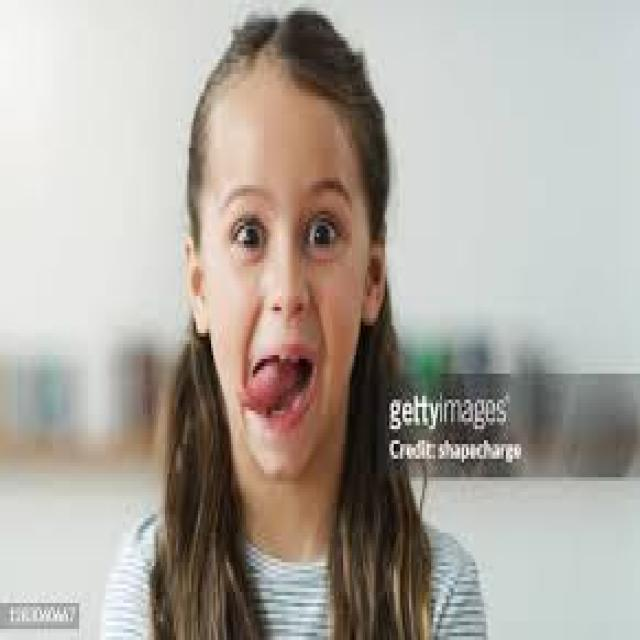tongue: (234, 354, 296, 415)
